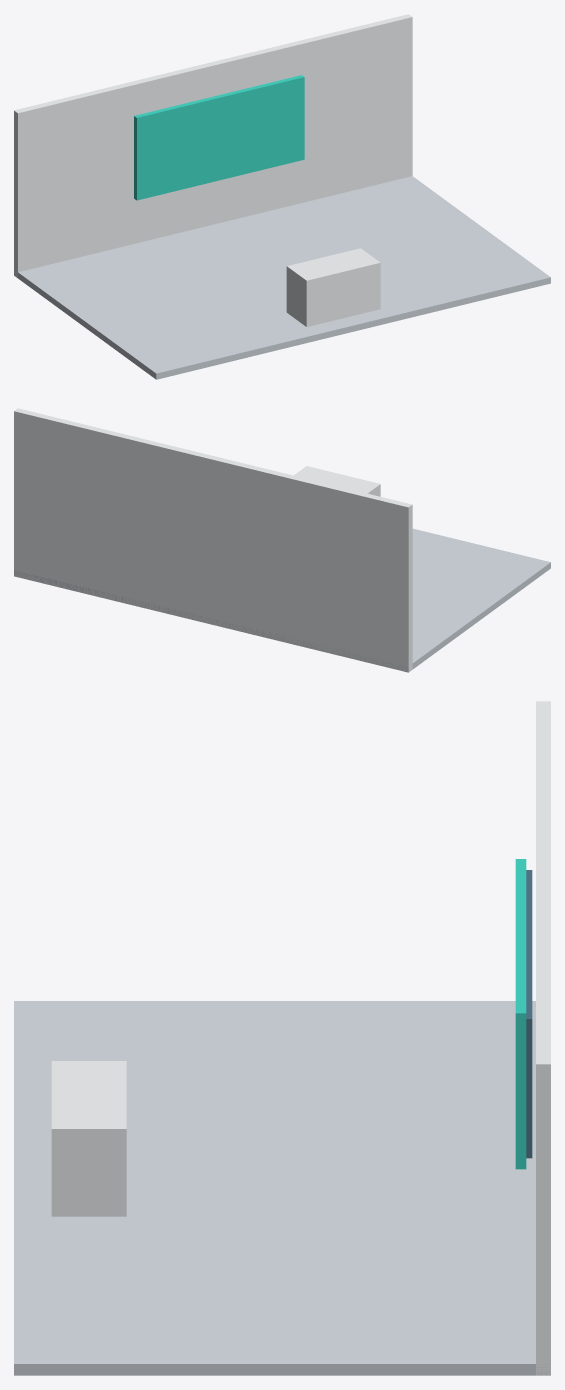
3 views of the same model, one above another, from view 1: azimuth 30°, elevation 25°; view 2: azimuth 150°, elevation 25°; view 3: azimuth 270°, elevation 25° (orthographic). The views are drawn at different scales.
Visible parts, largest first — view 1: Exhibition Booth Concept; view 2: Exhibition Booth Concept; view 3: Exhibition Booth Concept.
Boxes of the visible parts, left/top/right/bottom form: Exhibition Booth Concept: left=14, top=14, right=550, bottom=379; Exhibition Booth Concept: left=14, top=408, right=550, bottom=672; Exhibition Booth Concept: left=14, top=701, right=550, bottom=1375.
Size of the model in its own units: 8 by 3.2 by 5.
